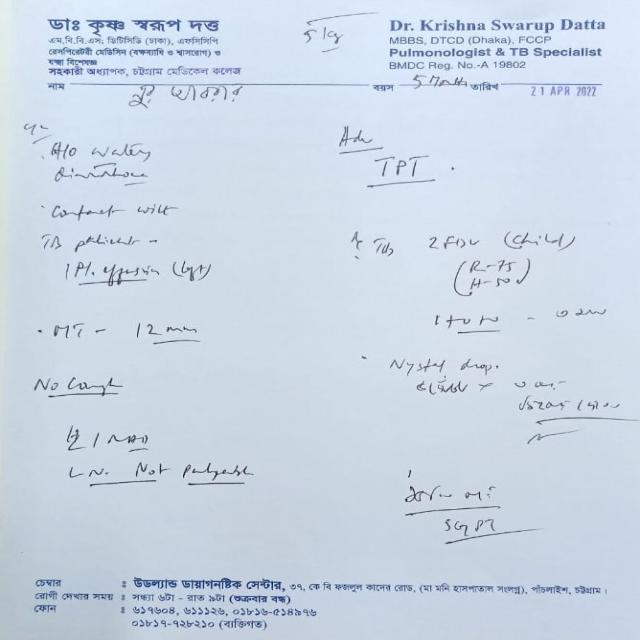FD: (441, 229, 470, 252)
Nystat: (381, 358, 453, 379)
